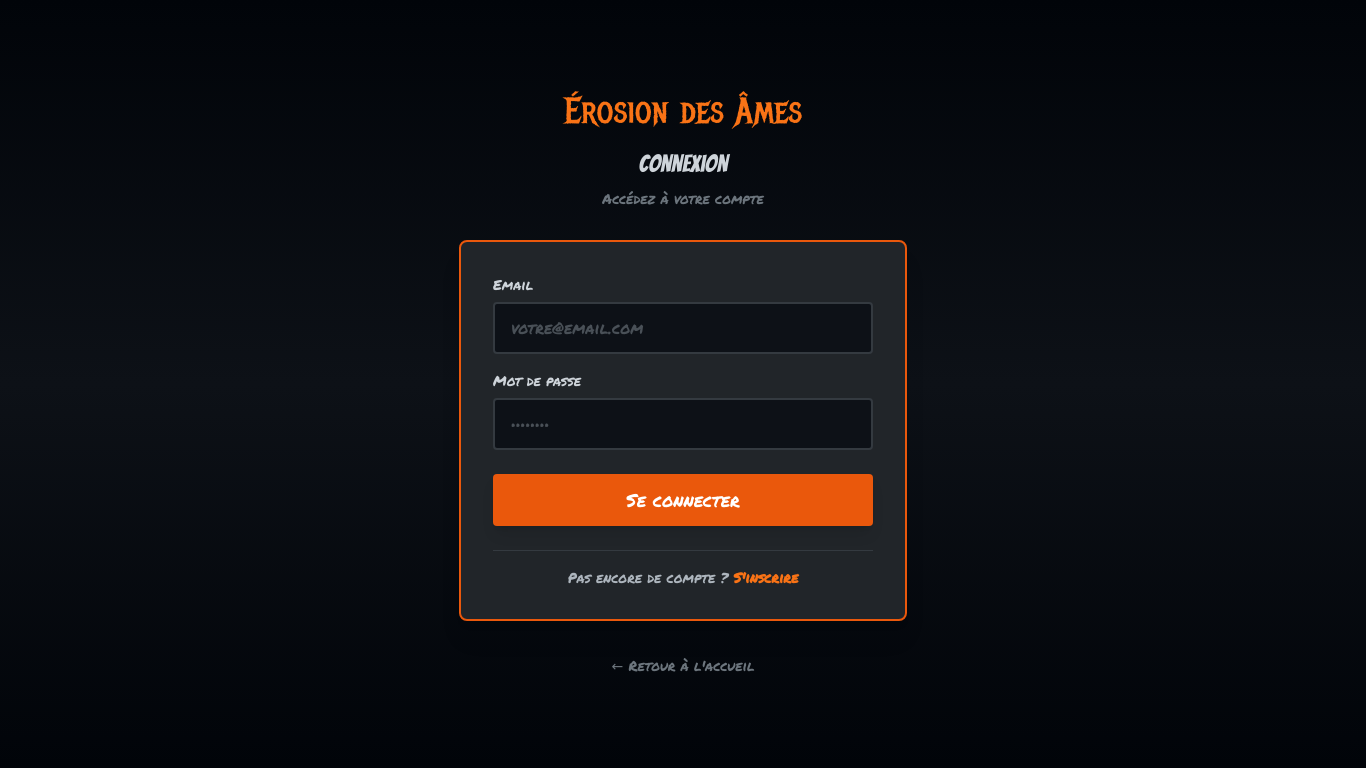
Scenario: Login › should show loading state during login
Expected: the button "Se connecter" is enabled, [493,474,873,526]
Type "test@test.com" into the field labelled "Email" at (683, 328), box [493,302,873,354]
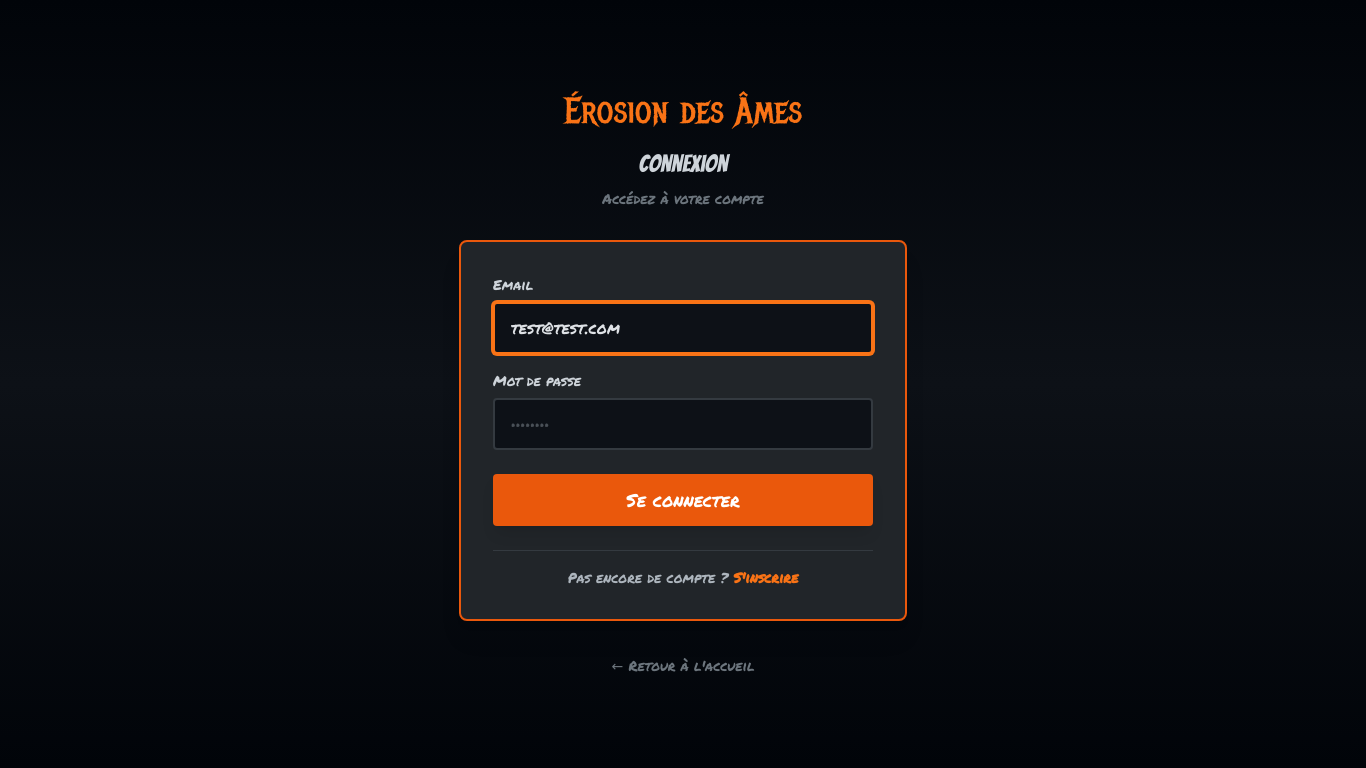
Type "password" into the password field labelled "Mot de passe" at (683, 424), box [493,398,873,450]
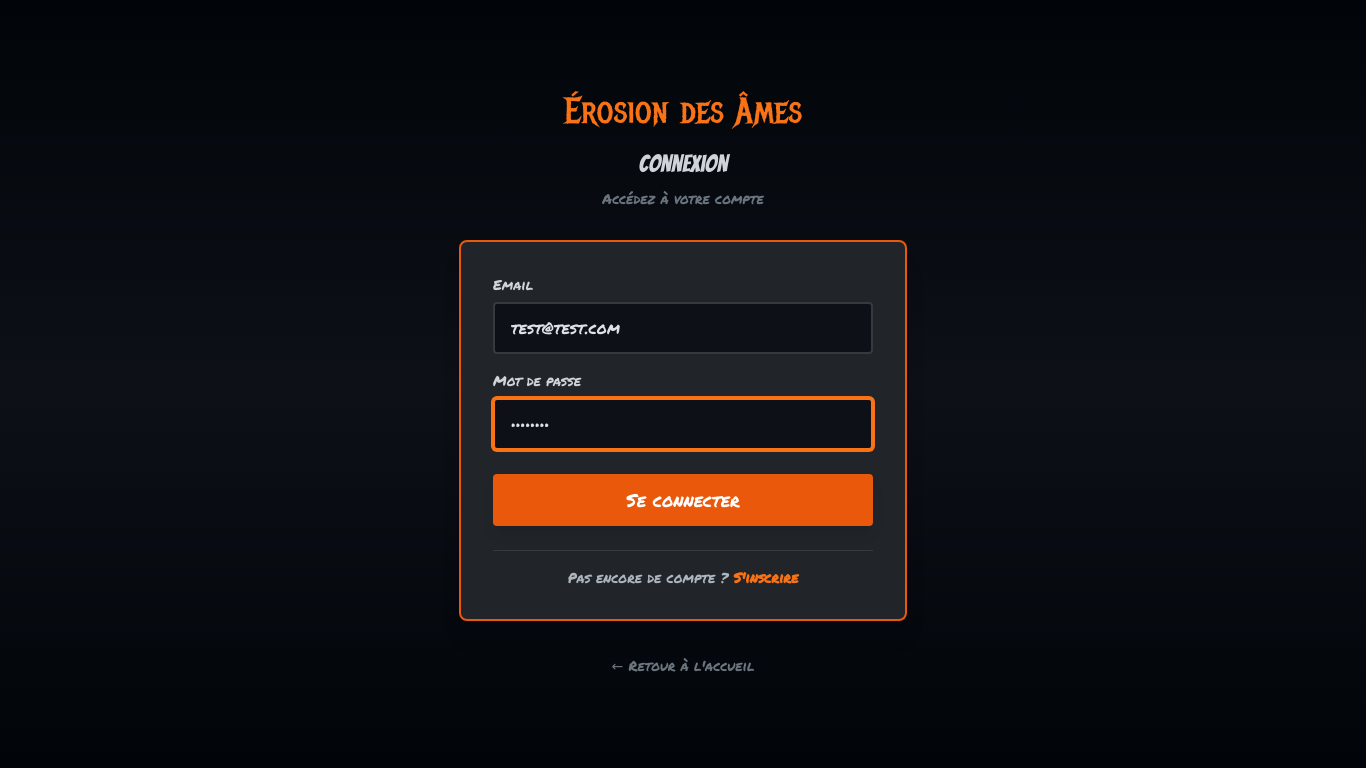
Click the button "Se connecter" at (683, 500), box [493,474,873,526]
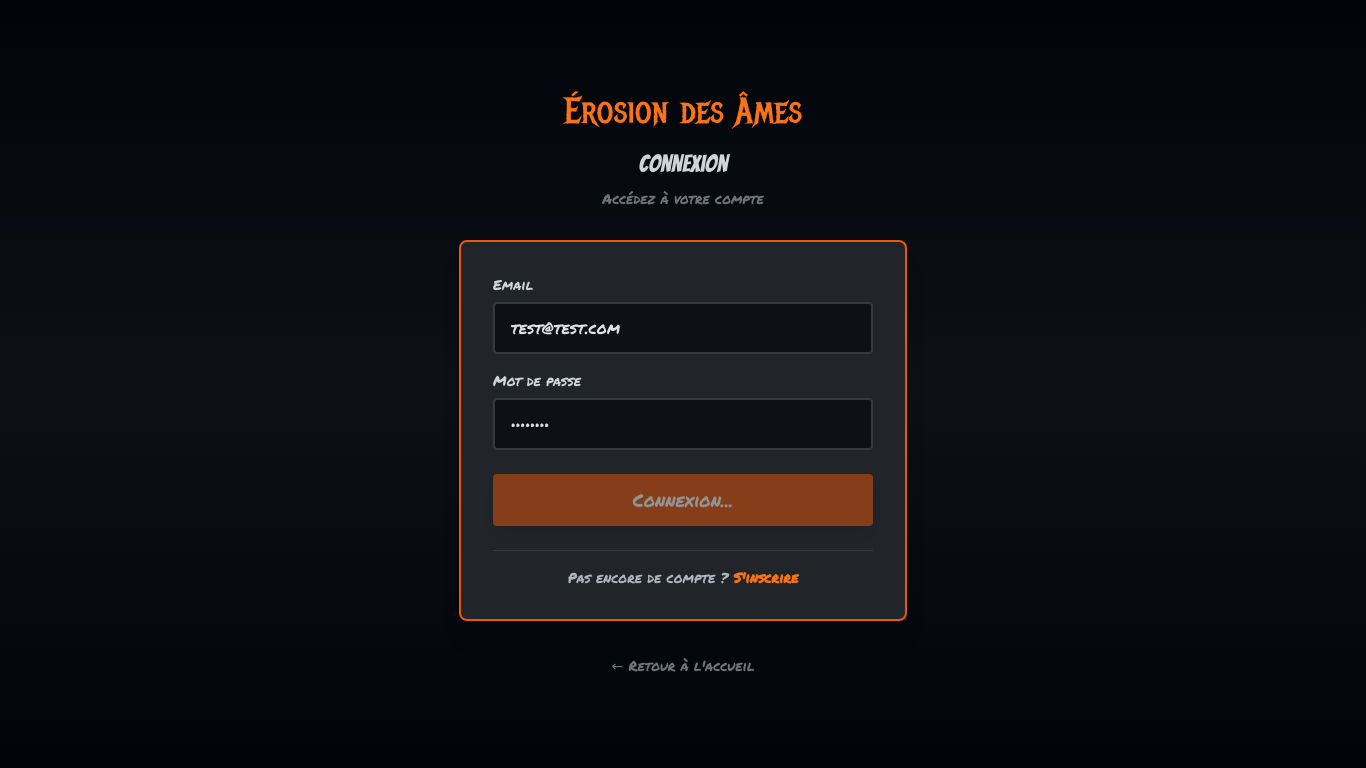
Now the button "Connexion..." is disabled, box [493,474,873,526]
